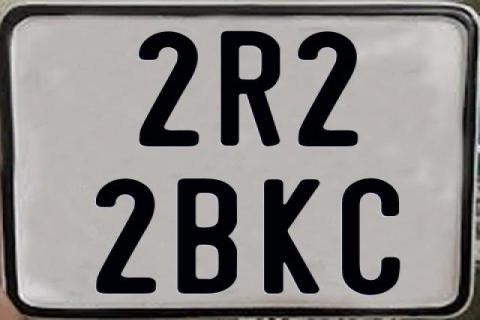0: (94, 179, 159, 297), (296, 29, 358, 150), (138, 30, 200, 148)
B: (176, 178, 237, 298)
C: (340, 178, 404, 294)
K: (262, 180, 319, 294)
R: (221, 31, 284, 150)
